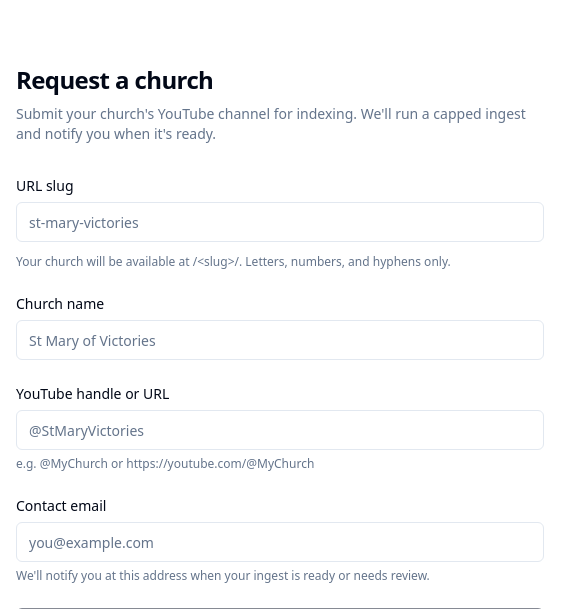
Test case: IngestPage › POST submission › include mode with empty list disables submit and shows inline error on submit attempt
This screenshot has width=561, height=609.
Type "my-church" into the field labelled "URL slug" at {"x": 280, "y": 222}, box [16,202,544,242]
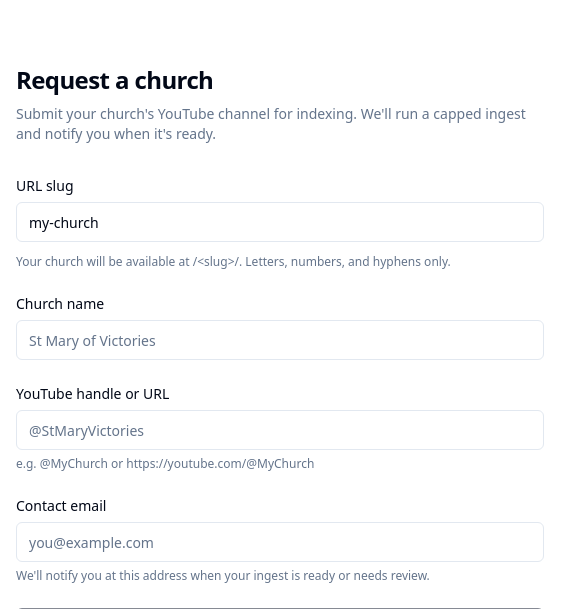
Type "My Church" into the field labelled "Church name" at {"x": 280, "y": 340}, box [16,320,544,360]
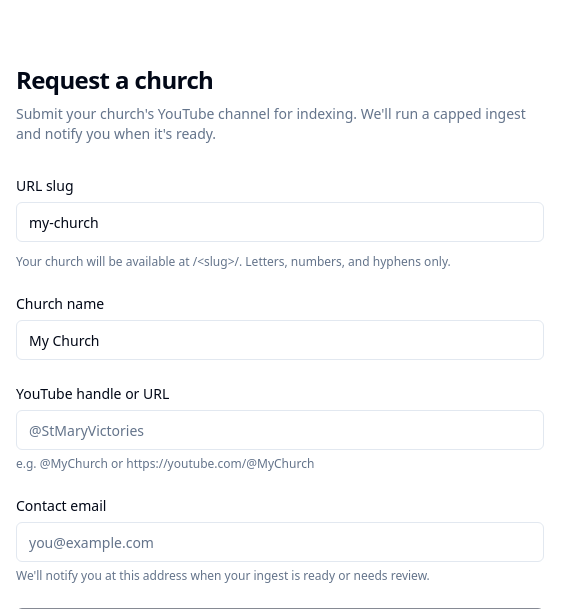
Type "@MyChurch" into the field labelled "YouTube handle or URL" at {"x": 280, "y": 430}, box [16,410,544,450]
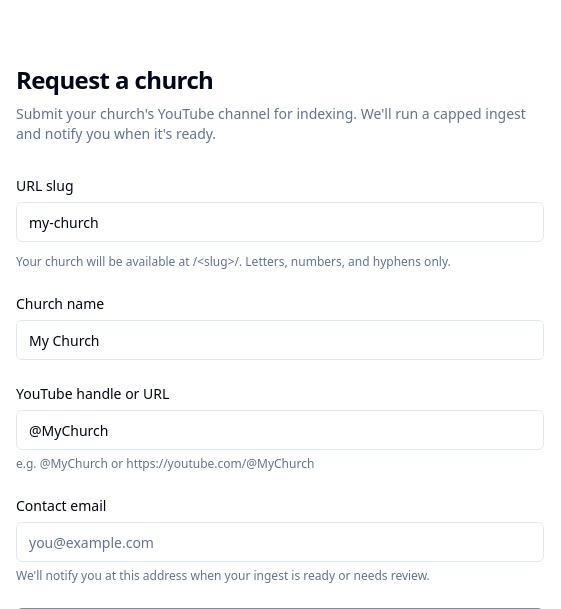
Type "me@example.com" into the field labelled "Contact email" at {"x": 280, "y": 542}, box [16,522,544,562]
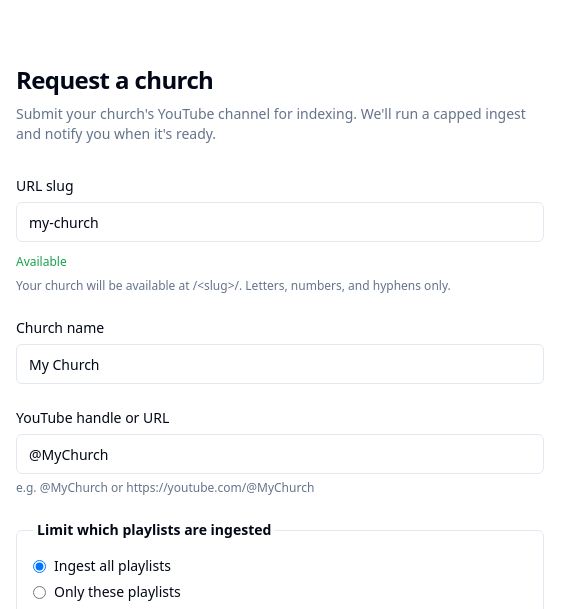
Result: the text "Available" is shown at [16,253,67,270]
Result: the text "Limit which playlists are ingested" is shown at [33,520,275,540]
Click the radio button labelled "Only these playlists" at {"x": 40, "y": 592}, box [33,586,46,598]
(page scrolled)
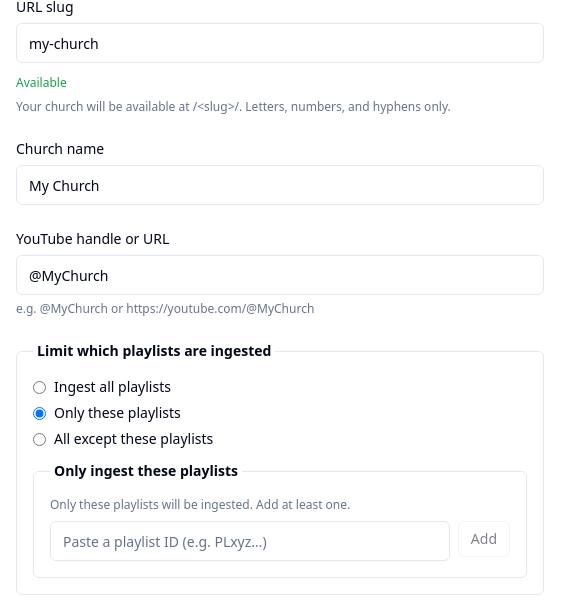
Submit the form named "submit request"
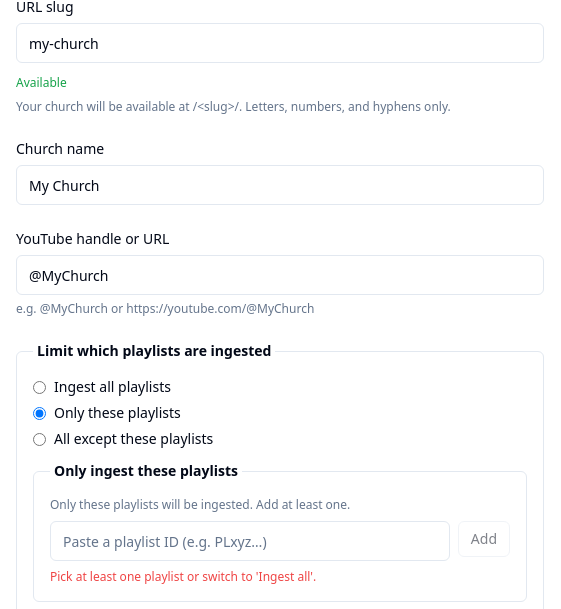
Result: the text "Pick at least one playlist or switch to 'Ingest all'." is shown at [50,568,316,585]
